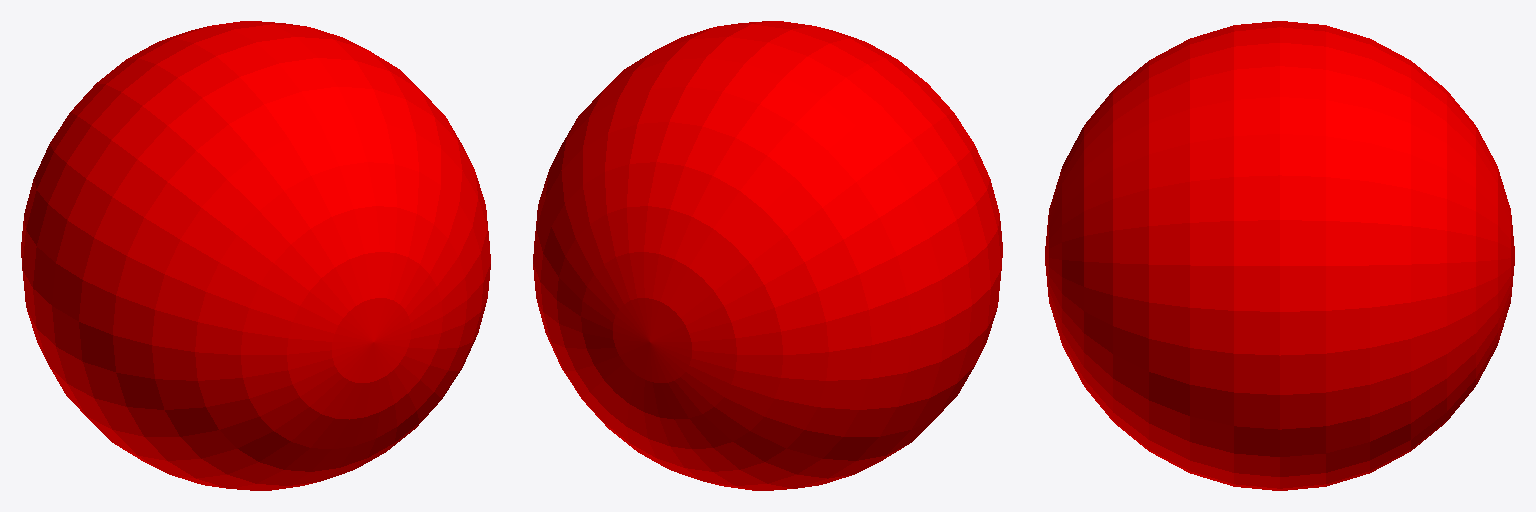
URDF robot description (R1arm):
<?xml version="1.0" encoding="utf-8"?>
<robot name="R1arm">
    <link name="world" />
    <link name="base_link">
        <inertial>
            <origin xyz="0 0.25 -5.85635023437615E-19" rpy="0 0 0"></origin>
            <mass value="2.89269908169872"></mass>
            <inertia ixx="0.0816417751742525" ixy="-9.59970673554874E-20" ixz="1.12937726300573E-20" iyy="0.0029314159014156" iyz="-5.29395592033938E-20" izz="0.083367899791627"></inertia>
        </inertial>
        <visual>
            <origin xyz="0 0 0" rpy="0 0 0"></origin>
            <geometry>
                <mesh filename="[local-path]/project/R1_ws/src/arm_dynamics_hw/urdf/meshes/base_link.STL"></mesh>
            </geometry>
            <material name="">
                <color rgba="1 1 1 1"></color>
            </material>
        </visual>
        <collision>
            <origin xyz="0 0 0" rpy="0 0 0"></origin>
            <geometry>
                <mesh filename="[local-path]/project/R1_ws/src/arm_dynamics_hw/urdf/meshes/base_link.STL"></mesh>
            </geometry>
        </collision>
    </link>
    <link name="link1">
        <inertial>
            <origin xyz="-0.16 0 9.36743115896274E-18" rpy="0 0 0"></origin>
            <mass value="2.09269908169872"></mass>
            <inertia ixx="0.00458895642020566" ixy="8.2903203668401E-19" ixz="-8.45931416109854E-19" iyy="0.0295487195783596" iyz="3.12210884956261E-19" izz="0.0282839703436107"></inertia>
        </inertial>
        <visual>
            <origin xyz="0 0 0" rpy="0 0 0"></origin>
            <geometry>
                <mesh filename="[local-path]/project/R1_ws/src/arm_dynamics_hw/urdf/meshes/link1.STL"></mesh>
            </geometry>
            <material name="">
                <color rgba="1 1 1 1"></color>
            </material>
        </visual>
        <collision>
            <origin xyz="0 0 0" rpy="0 0 0"></origin>
            <geometry>
                <mesh filename="[local-path]/project/R1_ws/src/arm_dynamics_hw/urdf/meshes/link1.STL"></mesh>
            </geometry>
        </collision>
    </link>
    <joint name="base_to_world" type="fixed">
            <parent link="world" />
            <child link="base_link" />
            <origin xyz="0 0 0" rpy="1.5708 0 0" />
    </joint>
    <joint name="joint1" type="revolute">
        <origin xyz="0 0.5 0" rpy="0 0 0"></origin>
        <parent link="base_link"></parent>
        <child link="link1"></child>
        <axis xyz="0 0 1"></axis>
        <limit lower="-3.14" upper="3.14" effort="20" velocity="30"></limit>
    </joint>
    <link name="link2">
        <inertial>
            <origin xyz="-0.1925 0 -2.90115107698237E-18" rpy="0 0 0"></origin>
            <mass value="2.31769908169872"></mass>
            <inertia ixx="0.00233245756808227" ixy="-6.1081025868386E-18" ixz="-1.10111797951753E-18" iyy="0.042266339997614" iyz="-1.57154690926002E-20" izz="0.0436330896149884"></inertia>
        </inertial>
        <visual>
            <origin xyz="0 0 0" rpy="0 0 0"></origin>
            <geometry>
                <mesh filename="[local-path]/project/R1_ws/src/arm_dynamics_hw/urdf/meshes/link2.STL"></mesh>
            </geometry>
            <material name="">
                <color rgba="1 1 1 1"></color>
            </material>
        </visual>
        <collision>
            <origin xyz="0 0 0" rpy="0 0 0"></origin>
            <geometry>
                <mesh filename="[local-path]/project/R1_ws/src/arm_dynamics_hw/urdf/meshes/link2.STL"></mesh>
            </geometry>
        </collision>
    </link>
    <joint name="joint2" type="revolute">
        <origin xyz="-0.32 0 0" rpy="0 0 0"></origin>
        <parent link="link1"></parent>
        <child link="link2"></child>
        <axis xyz="0 0 1"></axis>
        <limit lower="-3.14" upper="3.14" effort="20" velocity="30"></limit>
    </joint>
    <link name="link3">
        <inertial>
            <origin xyz="-0.179 0 -3.08305806577133E-17" rpy="0 0 0"></origin>
            <mass value="2.47269908169872"></mass>
            <inertia ixx="0.00522228975353901" ixy="-4.5812344192102E-19" ixz="-2.86201139104598E-18" iyy="0.0382538543635812" iyz="5.09897919989501E-19" izz="0.0369891051288322"></inertia>
        </inertial>
        <visual>
            <origin xyz="0 0 0" rpy="0 0 0"></origin>
            <geometry>
                <mesh filename="[local-path]/project/R1_ws/src/arm_dynamics_hw/urdf/meshes/link3.STL"></mesh>
            </geometry>
            <material name="">
                <color rgba="1 1 1 1"></color>
            </material>
        </visual>
        <collision>
            <origin xyz="0 0 0" rpy="0 0 0"></origin>
            <geometry>
                <mesh filename="[local-path]/project/R1_ws/src/arm_dynamics_hw/urdf/meshes/link3.STL"></mesh>
            </geometry>
        </collision>
    </link>
    <joint name="joint3" type="revolute">
        <origin xyz="-0.385 0 0" rpy="0 0 0"></origin>
        <parent link="link2"></parent>
        <child link="link3"></child>
        <axis xyz="0 0 -1"></axis>
        <limit lower="-3.14" upper="3.14" effort="20" velocity="30"></limit>
    </joint>
    <link name="end_ball">
        <inertial>
            <origin xyz="0 0 0" rpy="0 0 0"></origin>
            <mass value="0.0000000000000000000000000000000000001"></mass>
            <inertia ixx="0.0000000000000000000000000000000000001" ixy="0" ixz="0" iyy="0.0000000000000000000000000000000000001" iyz="0" izz="0.0000000000000000000000000000000000001"></inertia>
        </inertial>
        <visual>
            <origin xyz="0 0 0" rpy="0 0 0"></origin>
            <geometry>
                <sphere radius="0.07"></sphere>
            </geometry>
            <material name="red">
                <color rgba="1 0 0 1"></color>
            </material>
        </visual>
        <collision>
            <origin xyz="0 0 0" rpy="0 0 0"></origin>
            <geometry>
                <sphere radius="0.07"></sphere>
            </geometry>
        </collision>
    </link>
    <joint name="joint_ball" type="revolute">
        <origin xyz="-0.358 0 0" rpy="0 0 0"></origin>
        <parent link="link3"></parent>
        <child link="end_ball"></child>
        <axis xyz="-1 0 0"></axis>
        <limit lower="0" upper="0" effort="0" velocity="0"></limit>
    </joint>
    <ros2_control name="GazeboSystem" type="system">
        <hardware>
            <plugin>gazebo_ros2_control/GazeboSystem</plugin>
        </hardware>
        <joint name="joint1">
            <command_interface name="position">
                <param name="min">-3.14</param>
                <param name="max">3.14</param>
            </command_interface>
            <command_interface name="velocity">
                <param name="min">-30</param>
                <param name="max">30</param>
            </command_interface>
            <command_interface name="effort">
                <param name="min">-20</param>
                <param name="max">20</param>
            </command_interface>
            <state_interface name="position">
                <param name="initial_value">0.5</param>
            </state_interface>
            <state_interface name="velocity"></state_interface>
            <state_interface name="effort"></state_interface>
        </joint>
        <joint name="joint2">
            <command_interface name="position">
                <param name="min">-3.14</param>
                <param name="max">3.14</param>
            </command_interface>
            <command_interface name="velocity">
                <param name="min">-30</param>
                <param name="max">30</param>
            </command_interface>
            <command_interface name="effort">
                <param name="min">-20</param>
                <param name="max">20</param>
            </command_interface>
            <state_interface name="position">
                <param name="initial_value">-0.32</param>
            </state_interface>
            <state_interface name="velocity"></state_interface>
            <state_interface name="effort"></state_interface>
        </joint>
        <joint name="joint3">
            <command_interface name="position">
                <param name="min">-3.14</param>
                <param name="max">3.14</param>
            </command_interface>
            <command_interface name="velocity">
                <param name="min">-30</param>
                <param name="max">30</param>
            </command_interface>
            <command_interface name="effort">
                <param name="min">-20</param>
                <param name="max">20</param>
            </command_interface>
            <state_interface name="position">
                <param name="initial_value">-0.385</param>
            </state_interface>
            <state_interface name="velocity"></state_interface>
            <state_interface name="effort"></state_interface>
        </joint>
    </ros2_control>
    <gazebo>
        <plugin filename="libgazebo_ros2_control.so" name="gazebo_ros2_control">
            <parameters>[local-path]/project/R1_ws/src/arm_dynamics_hw/config/effort_control.yaml</parameters>
        </plugin>
    </gazebo>
</robot>

--- Facts derived from the render (not from the file) ---
Views: 3 orthographic renders of the robot side by side, from view 1: azimuth 30°, elevation 25°; view 2: azimuth 150°, elevation 25°; view 3: azimuth 270°, elevation 25°.
Model R1arm with 6 links and 5 joints (4 revolute, 1 fixed), rooted at world, posed all joints at 0.
Links seen in each view (by area): view 1: end_ball; view 2: end_ball; view 3: end_ball.
Link boxes in pixels (<box>): end_ball: <box>21,21,490,490</box>; end_ball: <box>533,21,1002,490</box>; end_ball: <box>1045,21,1514,490</box>.
Bounding box of the posed robot: 0.14 × 0.14 × 0.14 m (x, y, z).
Geometry: only primitive shapes (box / cylinder / sphere) drawn; not drawn: 4 mesh visuals (reference in a form the renderer does not follow).